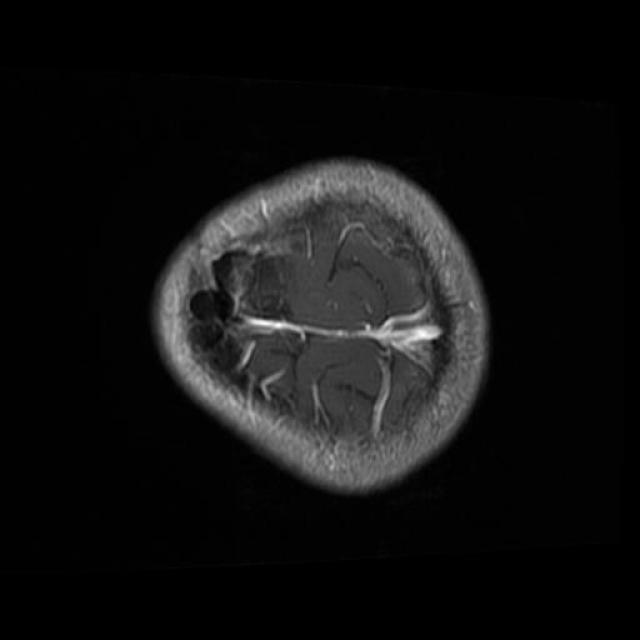Glioma: (190, 252, 256, 386)
